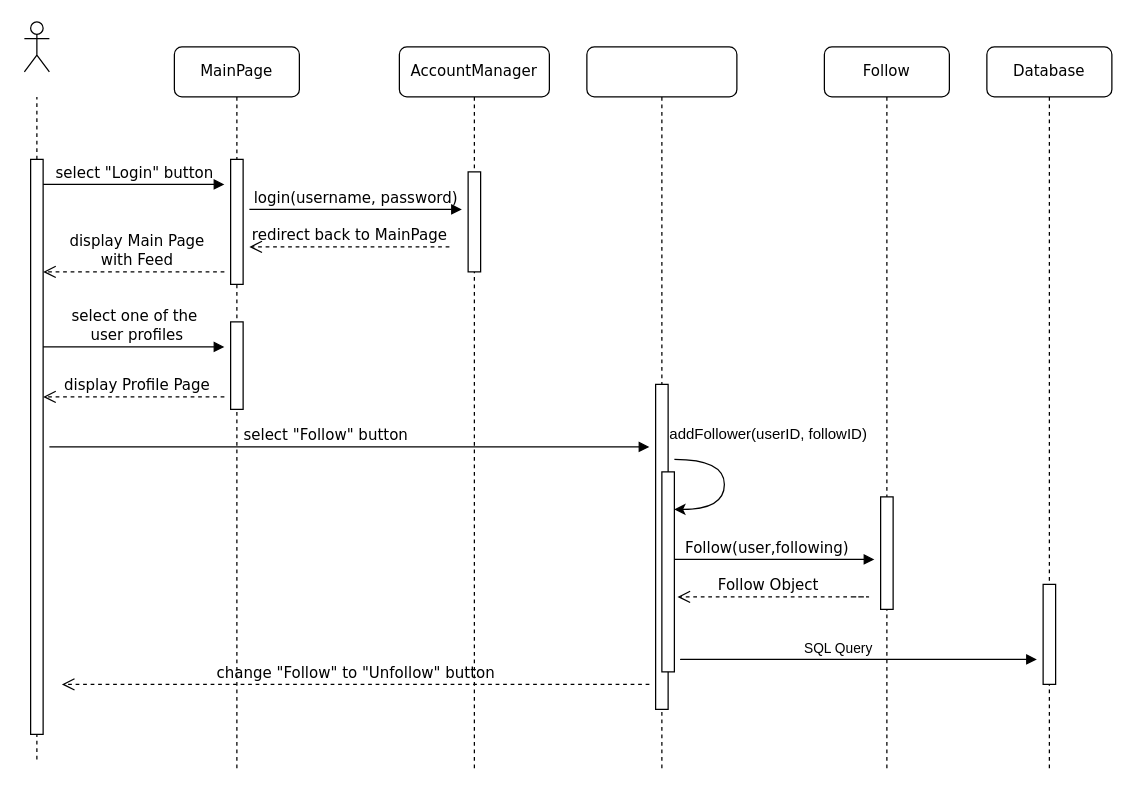
Image size: 1134x794. Some labels were removed from this diagram. The centre of each missing label's shape, as x and y in pixels:
ProfilePage: point (661, 409)
User: point (36, 46)
